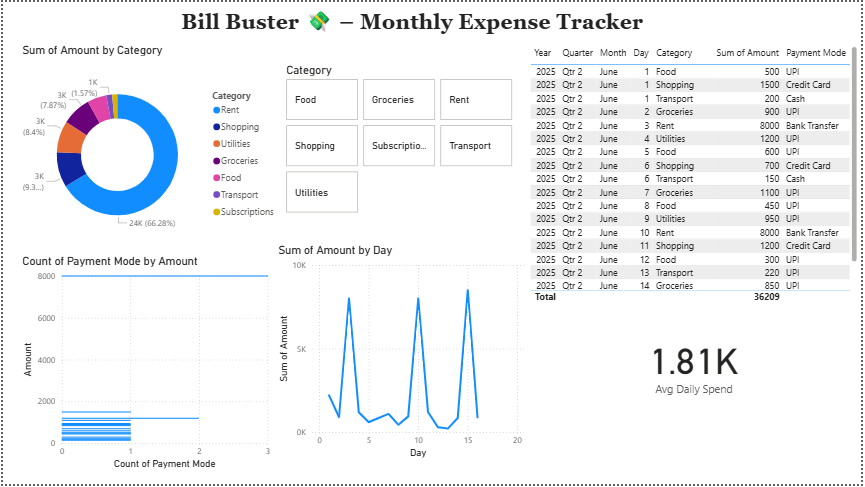

This screenshot's page, from the dashboard's own definition file:
{"tool":"powerbi","page":{"name":"Page 1","canvas":[1280,720],"ordinal":0},"visuals":[{"type":"textbox","box":[261.8,0,723.6,90.9],"z":0},{"type":"barChart","fields":{"Category":["Sheet1.Amount"],"Y":["Sheet1.Payment Mode"]},"box":[23.6,376.4,380,325.5],"z":1},{"type":"donutChart","fields":{"Category":["Sheet1.Category"],"Y":["Sheet1.Amount"]},"box":[23.6,61.8,394.5,314.5],"z":2},{"type":"lineChart","fields":{"Category":["Sheet1.Date.Variation.Date Hierarchy.Day"],"Y":["Sheet1.Amount"]},"box":[405.5,360,376.4,325.5],"z":3},{"type":"tableEx","fields":{"Values":["Avg Daily Spend.Date.Variation.Date Hierarchy.Year","Avg Daily Spend.Date.Variation.Date Hierarchy.Quarter","Avg Daily Spend.Date.Variation.Date Hierarchy.Month","Avg Daily Spend.Date.Variation.Date Hierarchy.Day","Avg Daily Spend.Category","Avg Daily Spend.Amount","Avg Daily Spend.Payment Mode"]},"box":[781.8,61.8,498.2,392.7],"z":4},{"type":"advancedSlicerVisual","fields":{"Values":["Avg Daily Spend.Category"]},"box":[418.2,90.9,347.3,229.1],"z":5},{"type":"card","fields":{"Values":["Avg Daily Spend.Avg Daily Spend"]},"box":[907.3,454.5,247.3,169.1],"z":6}]}

Visuals, with their boxes in screenshot pixels (x1, y1, x2, y2), scaled from the page's 1280x720 canvas onto the 865x487 screenshot:
textbox: (x1=177, y1=0, x2=666, y2=61)
barChart - Sheet1.Amount x Sheet1.Payment Mode: (x1=16, y1=255, x2=273, y2=475)
donutChart - Sheet1.Category x Sheet1.Amount: (x1=16, y1=42, x2=283, y2=255)
lineChart - Sheet1.Date.Variation.Date Hierarchy.Day x Sheet1.Amount: (x1=274, y1=244, x2=528, y2=464)
tableEx - Avg Daily Spend.Date.Variation.Date Hierarchy.Year x Avg Daily Spend.Date.Variation.Date Hierarchy.Quarter: (x1=528, y1=42, x2=864, y2=307)
advancedSlicerVisual - Avg Daily Spend.Category: (x1=283, y1=61, x2=517, y2=216)
card - Avg Daily Spend.Avg Daily Spend: (x1=613, y1=307, x2=780, y2=422)
